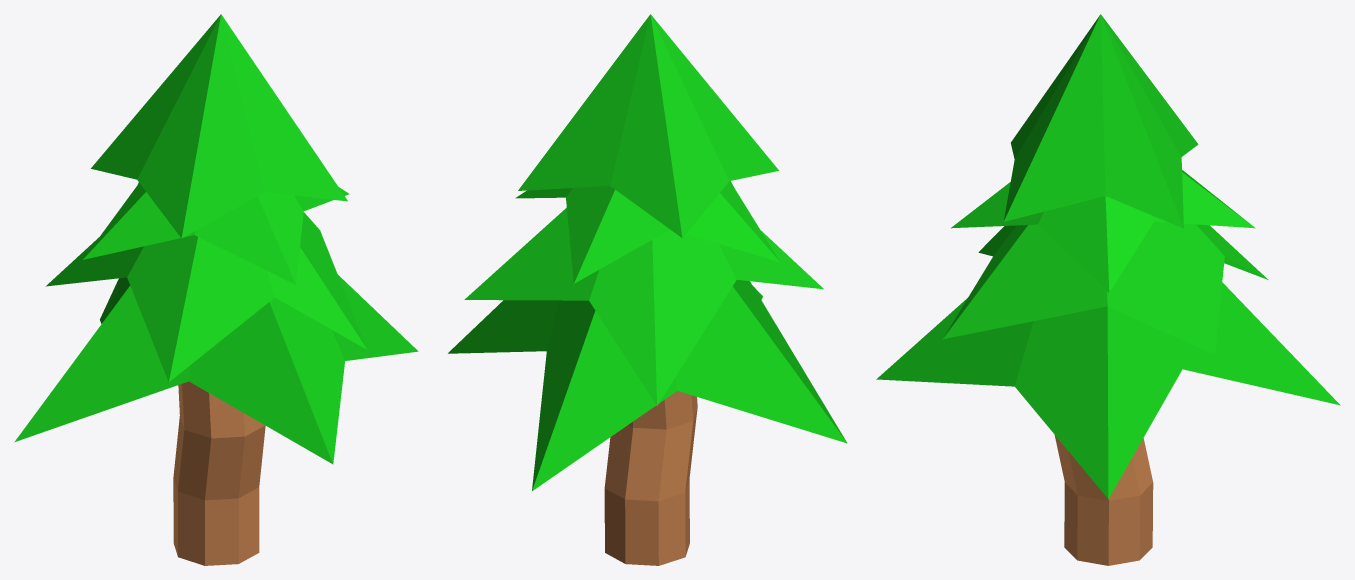
File: Tree.fbx
3 renders of one model, left to right at view 1: azimuth 30°, elevation 25°; view 2: azimuth 150°, elevation 25°; view 3: azimuth 270°, elevation 25°, orthographic.
Visible parts, largest first — view 1: Circle; view 2: Circle; view 3: Circle.
Boxes of the visible parts, x1=… form: Circle: x1=14, y1=14, x2=418, y2=565; Circle: x1=448, y1=14, x2=847, y2=565; Circle: x1=876, y1=14, x2=1340, y2=565.
Size of the model in its own units: 526 by 666 by 526.
